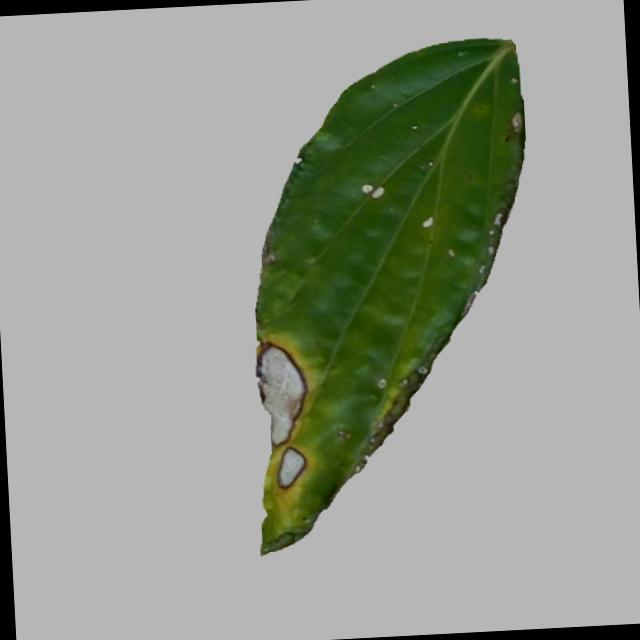leaf-blight: (226, 36, 572, 558)
